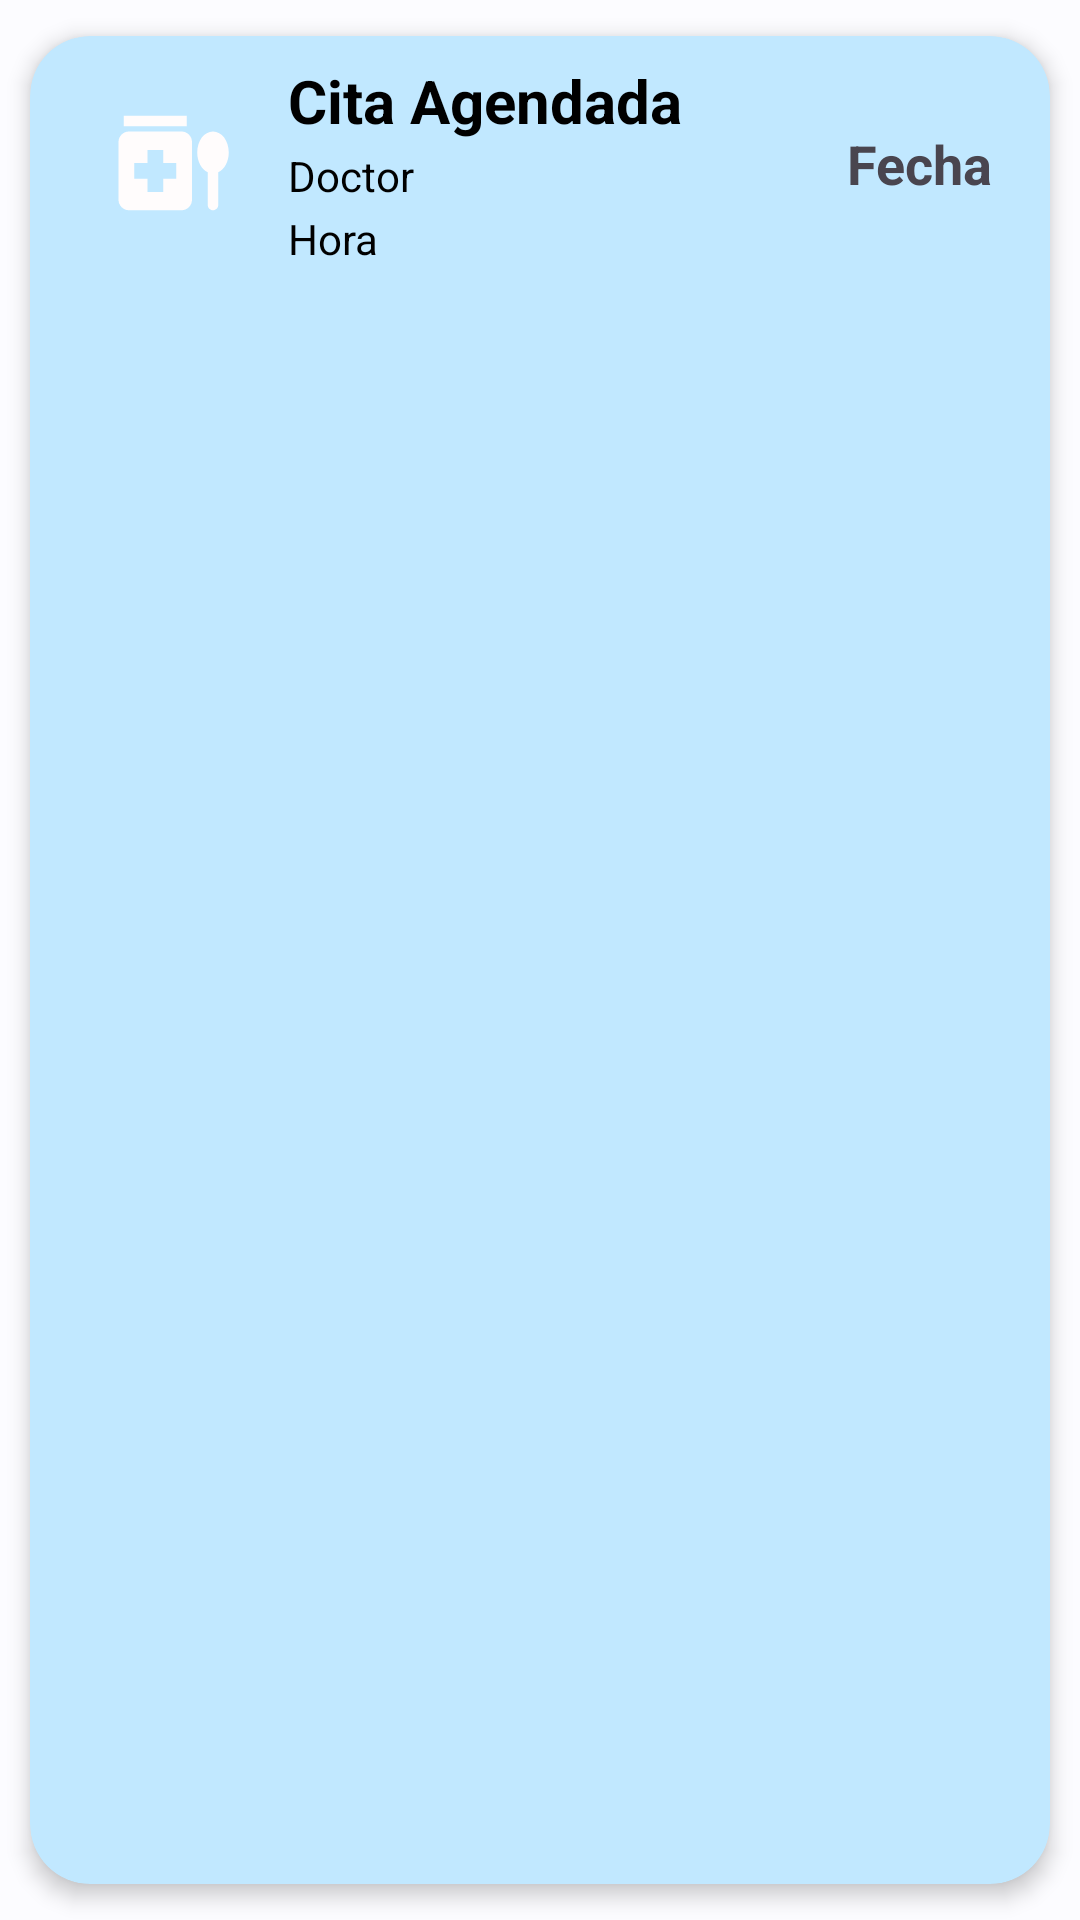

Icon bounding boxes for this 1080px x 1920px phone screenshot, format (x1, y1, x2, y2):
medication liquid: (118, 116, 229, 210)
